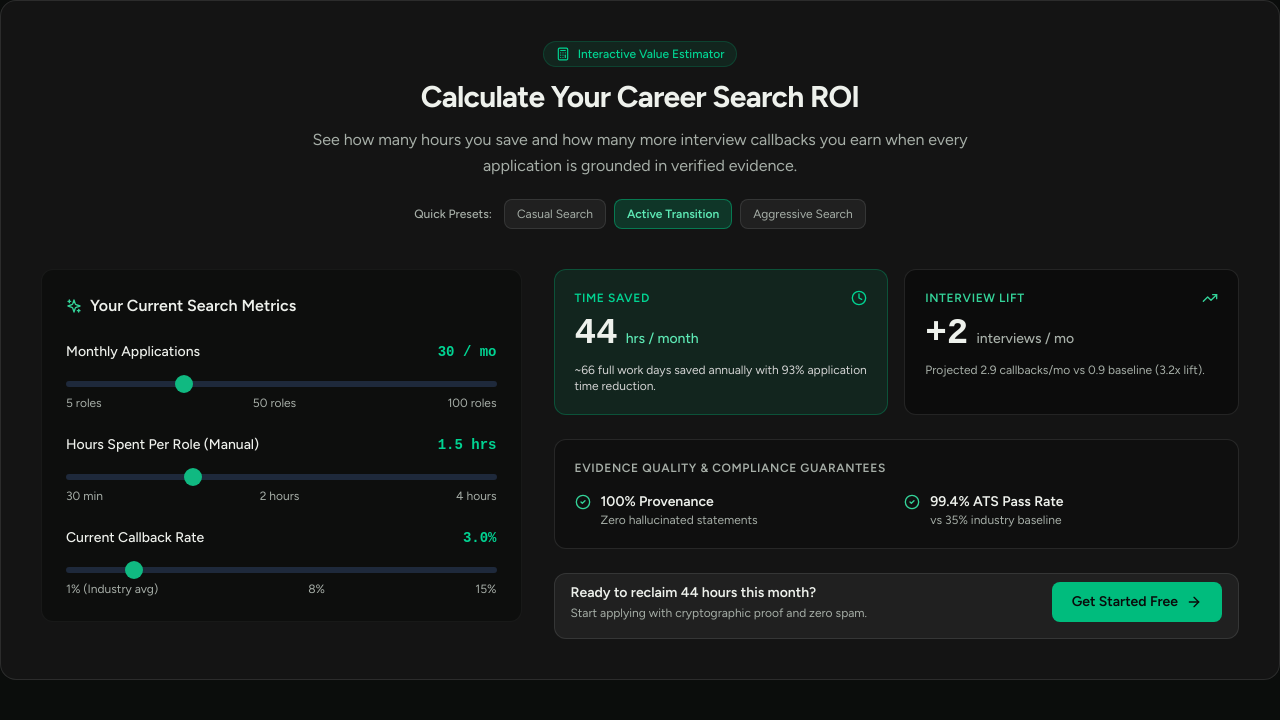
it: RoiCalculator Component (T-71, FR-CRO-03) › switches values and highlights button when quick presets are clicked
Click the button "Casual Search" at (555, 214), box [504,199,606,229]
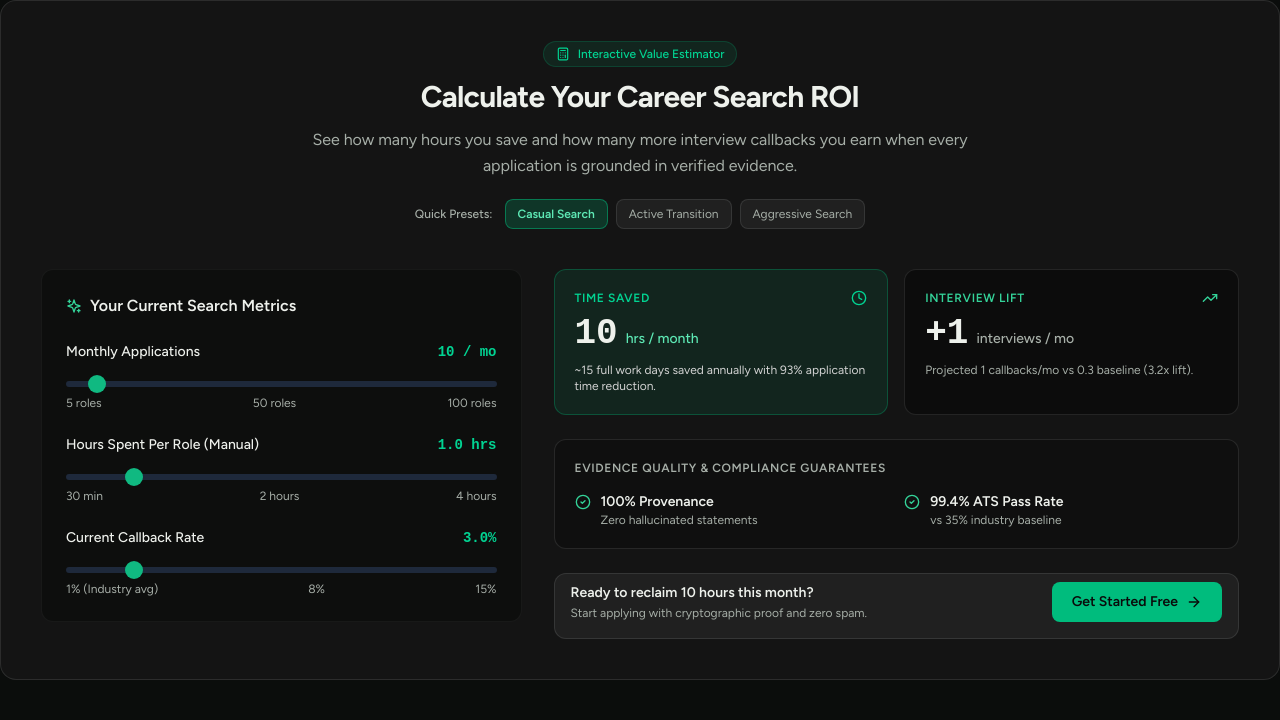
Expected: the text "10 / mo" is shown, [438,342,496,362]
Expected: the text "1.0 hrs" is shown, [438,435,496,455]
Click the button "Aggressive Search" at (802, 214), box [740,199,865,229]
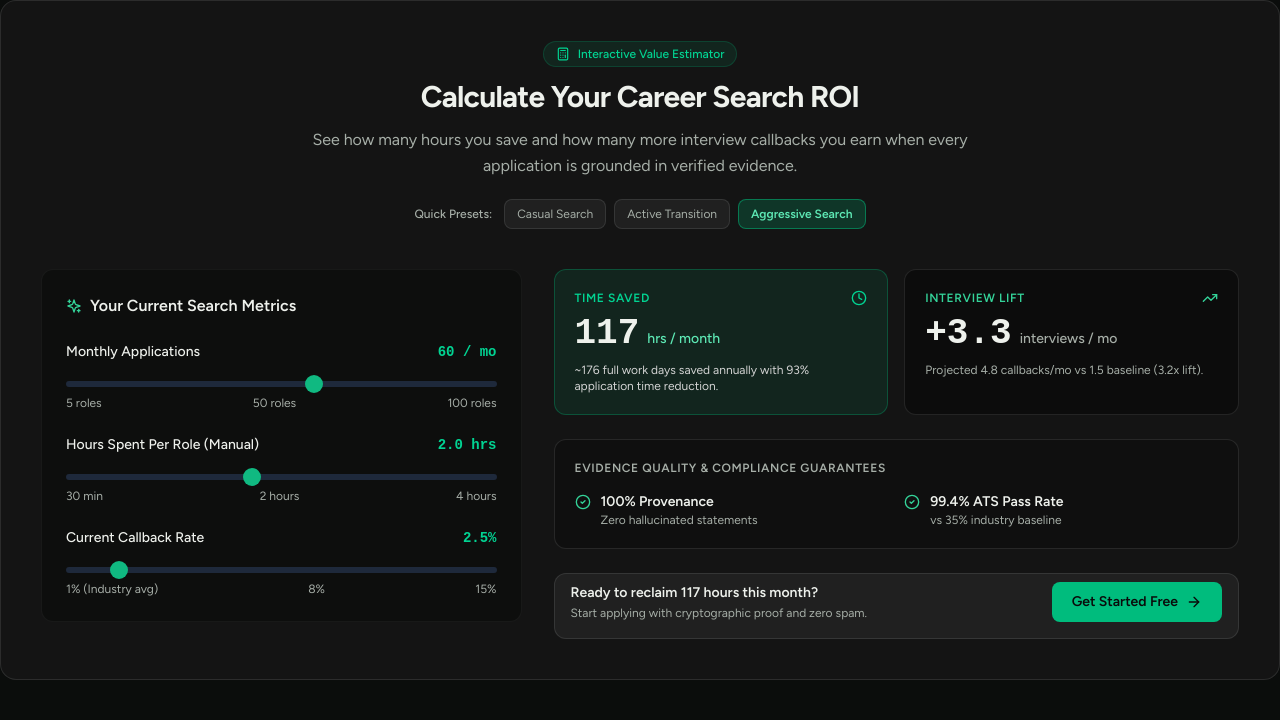
Expected: the text "60 / mo" is shown, [438,342,496,362]
Expected: the text "2.0 hrs" is shown, [438,435,496,455]
